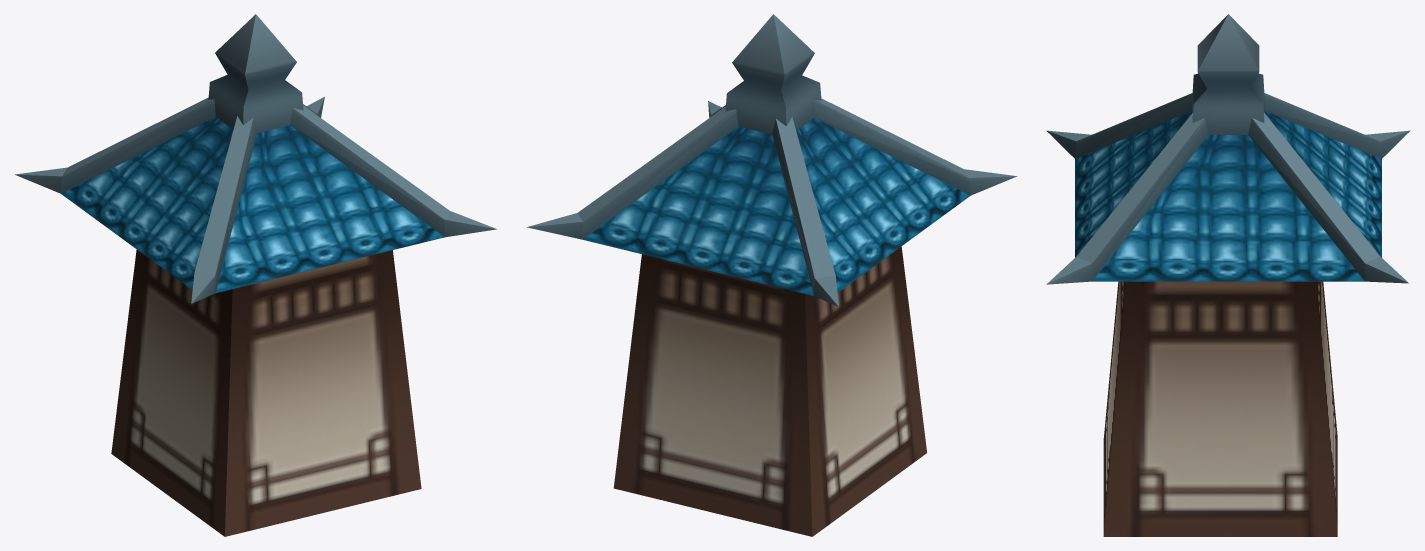
The model's file is QSMY_City_YuanQiang01.FBX.
The picture shows the model from 3 angles, left to right: view 1: azimuth 30°, elevation 25°; view 2: azimuth 150°, elevation 25°; view 3: azimuth 270°, elevation 25°; orthographic projection. The views are drawn at different scales.
Parts seen in each view (by area): view 1: Object123; view 2: Object123; view 3: Object123.
Boxes of the visible parts, x1=… form: Object123: x1=15, y1=14, x2=496, y2=536; Object123: x1=527, y1=14, x2=1017, y2=536; Object123: x1=1046, y1=14, x2=1410, y2=536.
Bounding box in the file's own units: 8.73 × 12.28 × 8.63.
